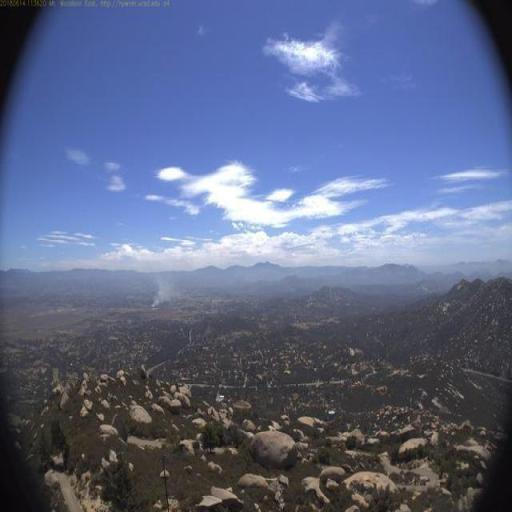smoke: (144, 255, 190, 309)
